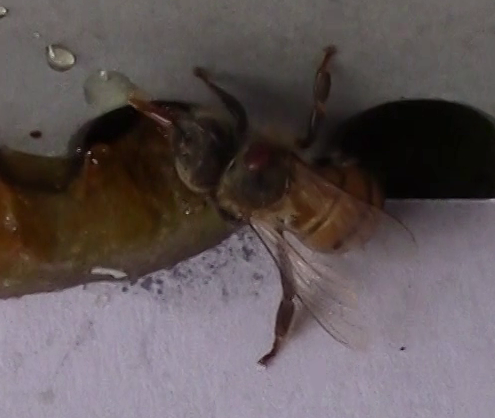Varroa destructor: (240, 140, 276, 173)
